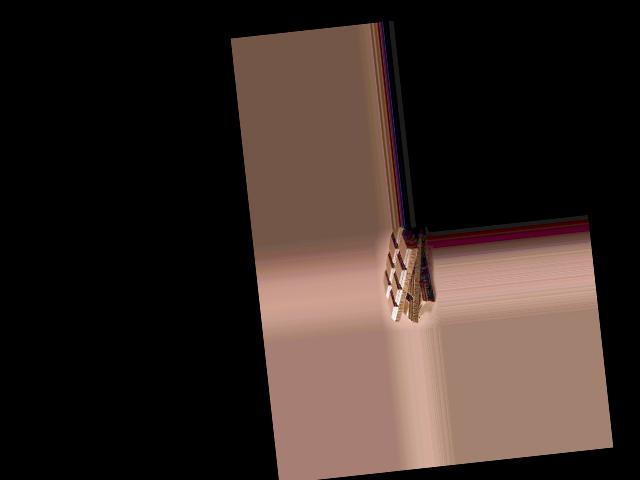chocolate: (378, 227, 431, 325)
